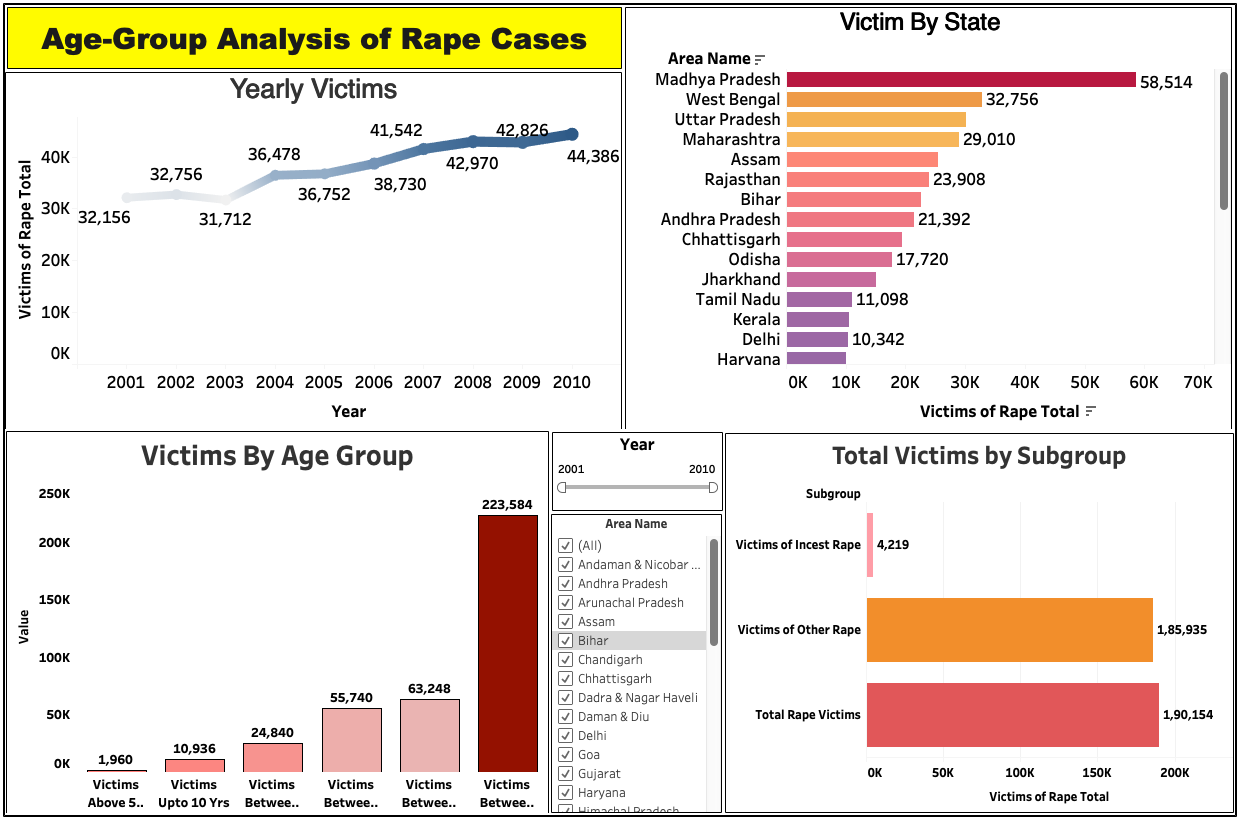

What the dashboard file says about the page in this screenshot:
{"tool":"tableau","page":{"name":"Dashboard","canvas":[1000,1000],"units":"permille","ordinal":0},"visuals":[{"type":"text","box":[9,13,493.9,76.8]},{"type":"worksheet","title":"Sheet 2","mark":"Automatic","rows":["Area_Name"],"cols":["Victims_of_Rape_Total"],"box":[503.7,14.3,485.8,509.1]},{"type":"worksheet","title":"Sheet 1","mark":"Automatic","rows":["Victims_of_Rape_Total"],"cols":["Year"],"box":[8.1,92.5,493.9,431]},{"type":"worksheet","title":"Sheet 3","mark":"Bar","box":[9,524.7,434.5,460.9]},{"type":"filter","title":"Sheet 2","param":"[federated.0z8hwax1xjxusn11kruug0eo29k9].[none:Year:qk]","box":[445.9,526,136.7,95]},{"type":"worksheet","title":"Sheet 4","mark":"Bar","rows":["Subgroup"],"cols":["Victims_of_Rape_Total"],"box":[584.2,527.3,406.8,458.3]},{"type":"filter","title":"Sheet 1","param":"[federated.0z8hwax1xjxusn11kruug0eo29k9].[none:Area_Name:nk]","box":[445.1,625,136.7,360.7]}]}

Visuals, with their boxes on the dashboard's canvas, which has no fixed pixel size, in thousandths of its width and height (x1, y1, x2, y2). These are canvas units, not pixel positions in the 1243x820 screenshot, which may show the page scaled, cropped or inside an application window:
text: <region>9, 13, 503, 90</region>
"Sheet 2" worksheet: <region>504, 14, 990, 523</region>
"Sheet 1" worksheet: <region>8, 92, 502, 524</region>
"Sheet 3" worksheet (Bar marks): <region>9, 525, 444, 986</region>
"Sheet 2" filter: <region>446, 526, 583, 621</region>
"Sheet 4" worksheet (Bar marks): <region>584, 527, 991, 986</region>
"Sheet 1" filter: <region>445, 625, 582, 986</region>
